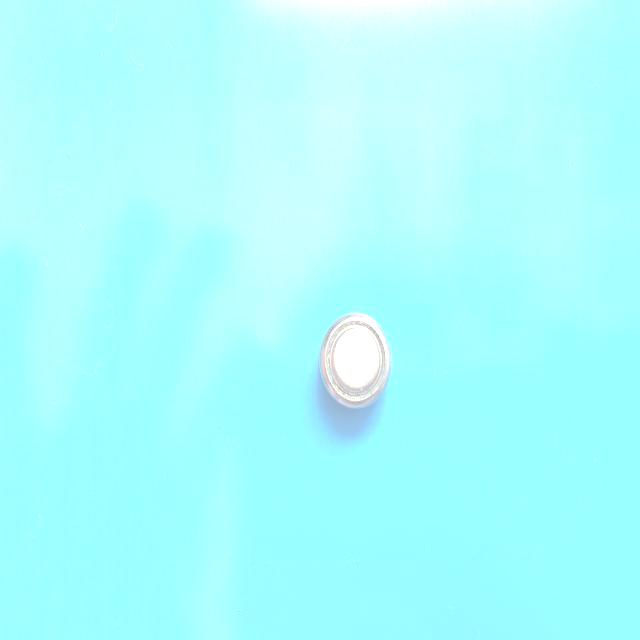COIN: (318, 312, 392, 410)
